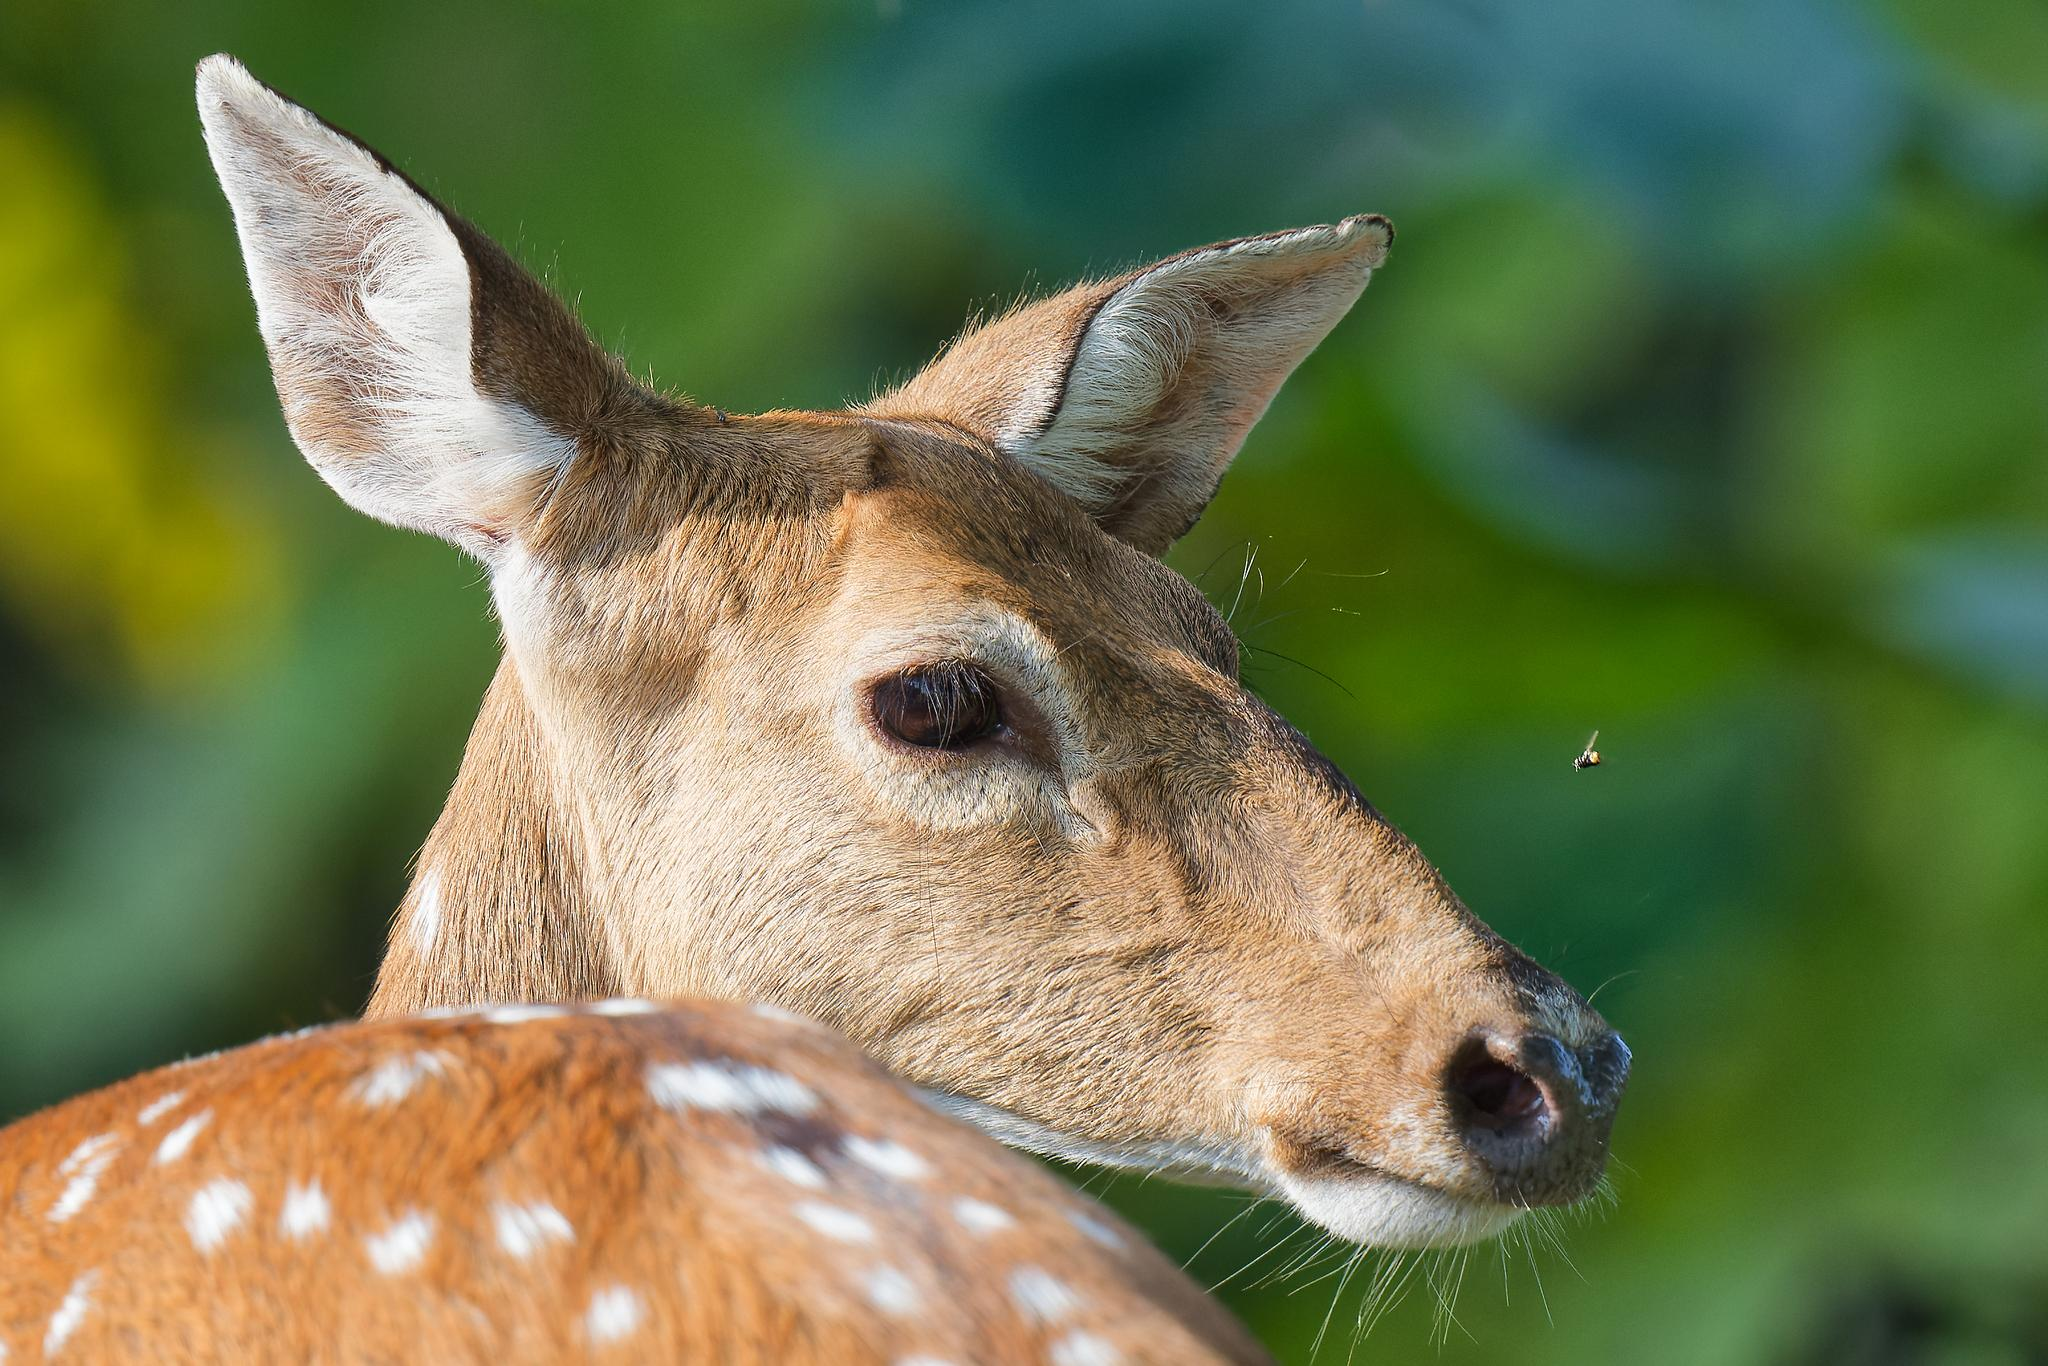Deer: (0, 53, 1627, 1361)
